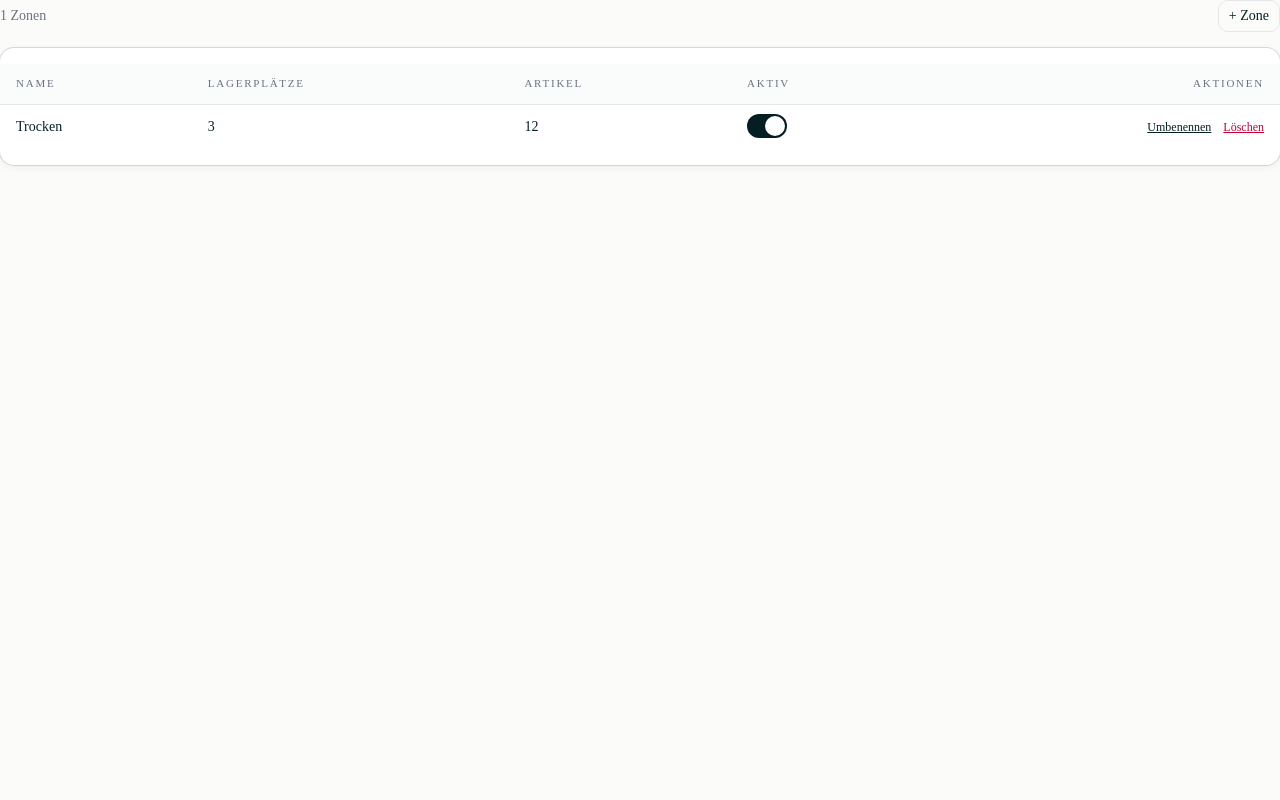
Test case: ZonesPanel › 409 beim Anlegen zeigt „Name existiert bereits“
Click the button "+ Zone": (1249, 16) [1218,0,1279,32]
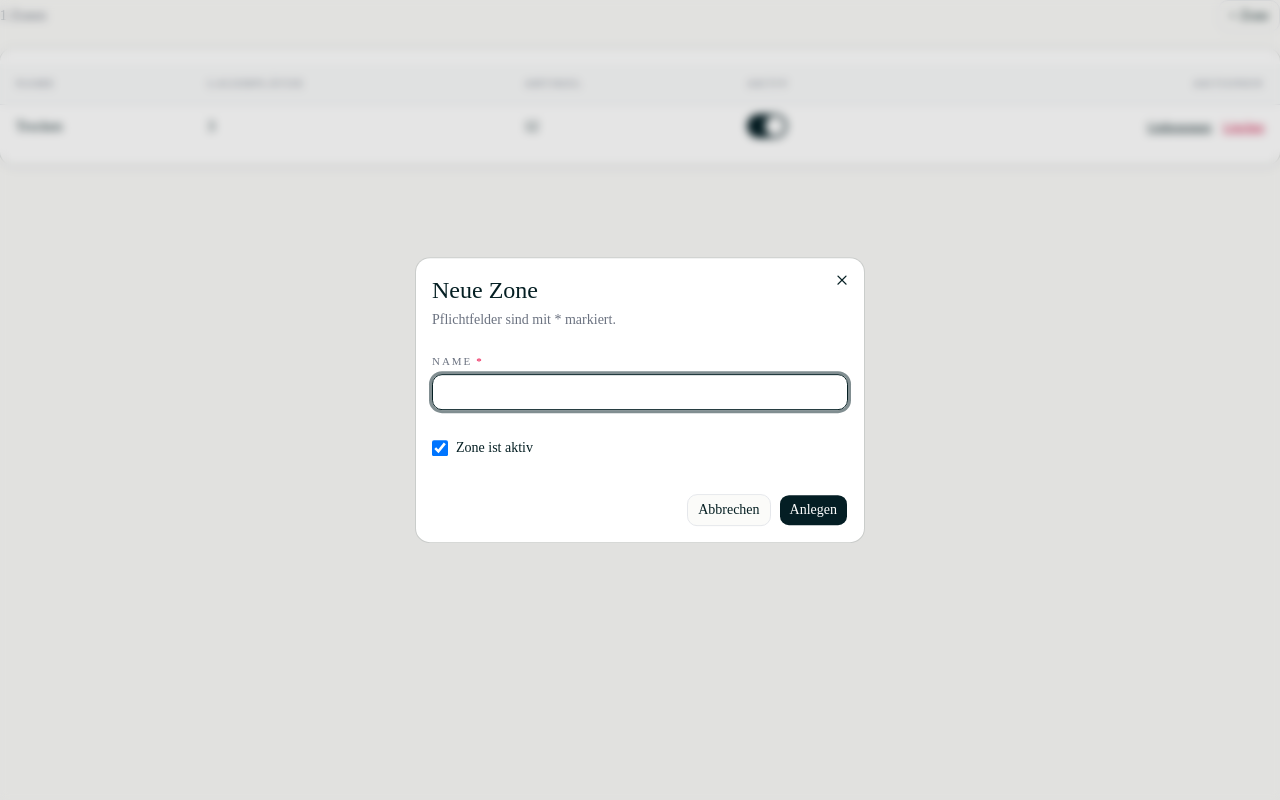
In the field labelled "Name*": (640, 392) [432,374,848,410], type "Trocken"
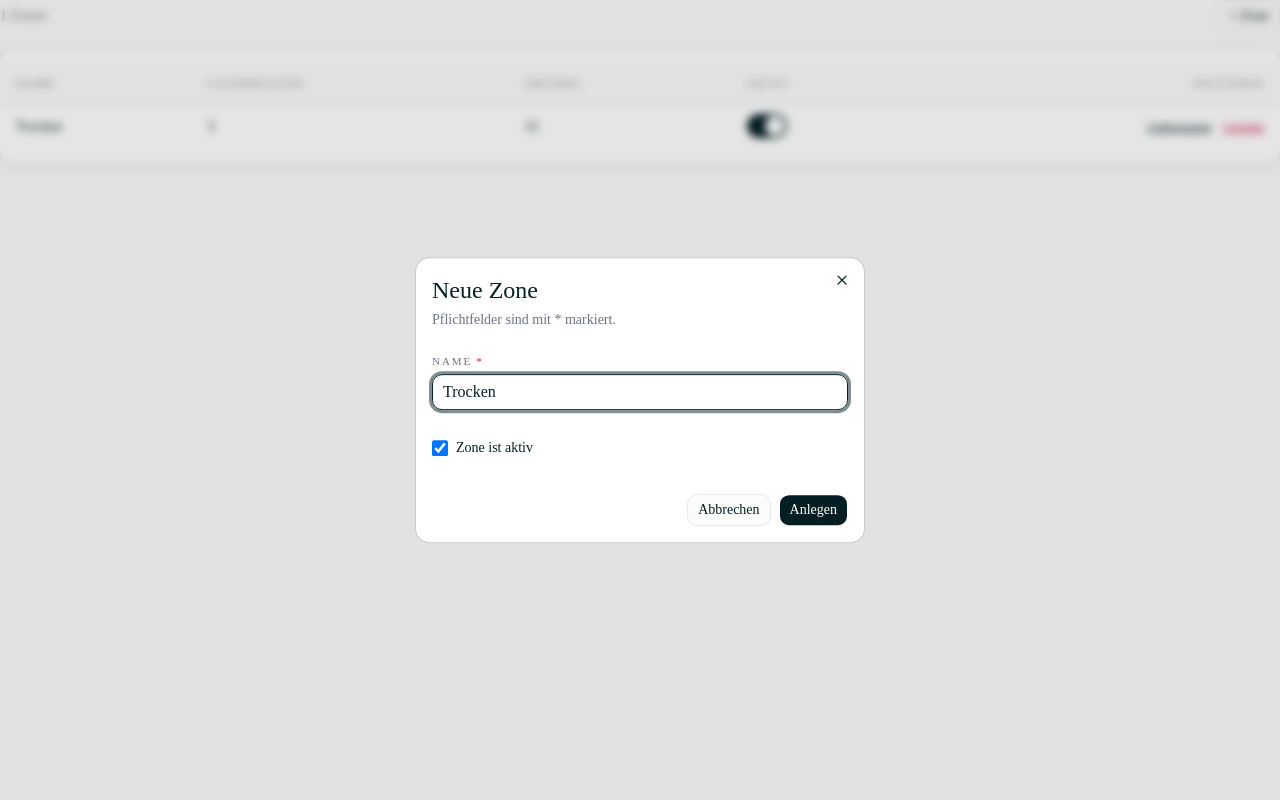
Click the button "Anlegen": (813, 510) [779,494,848,526]
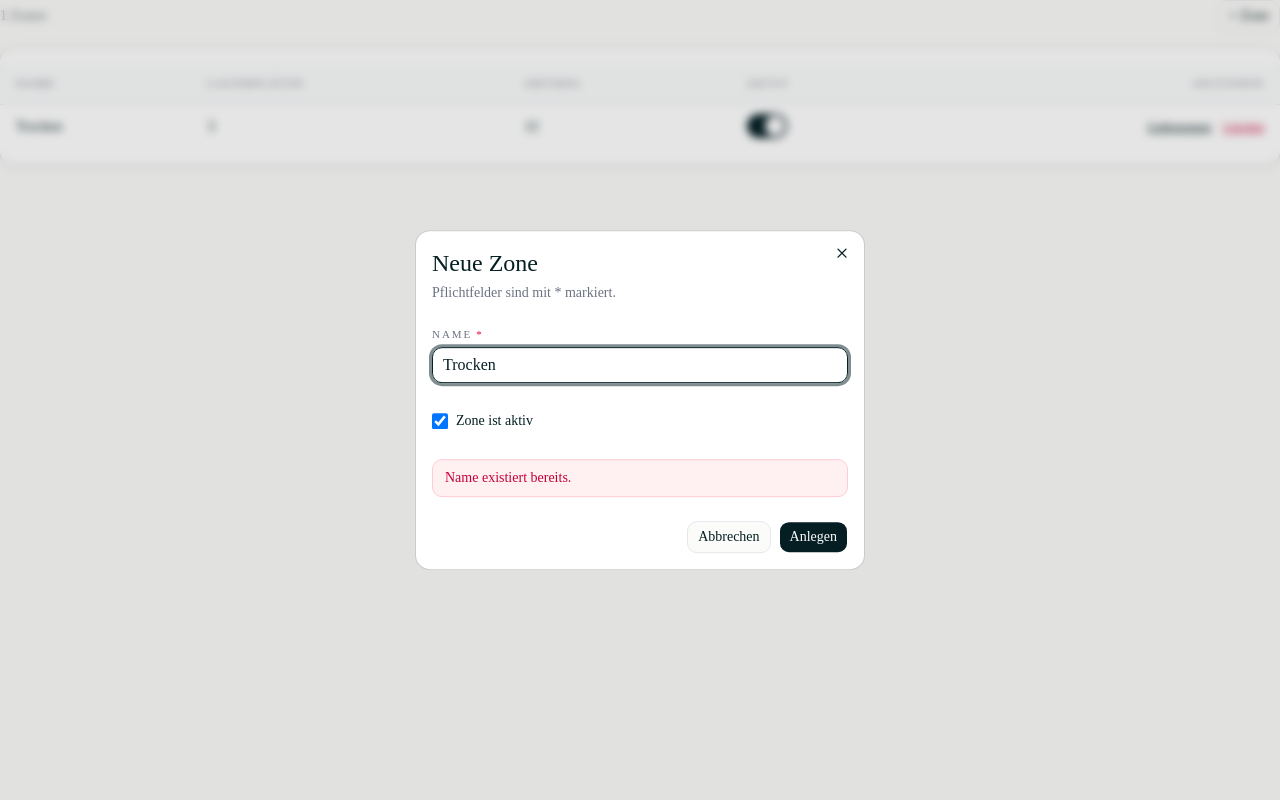
Expected: the text "Name existiert bereits." is shown, [432,459,848,497]
